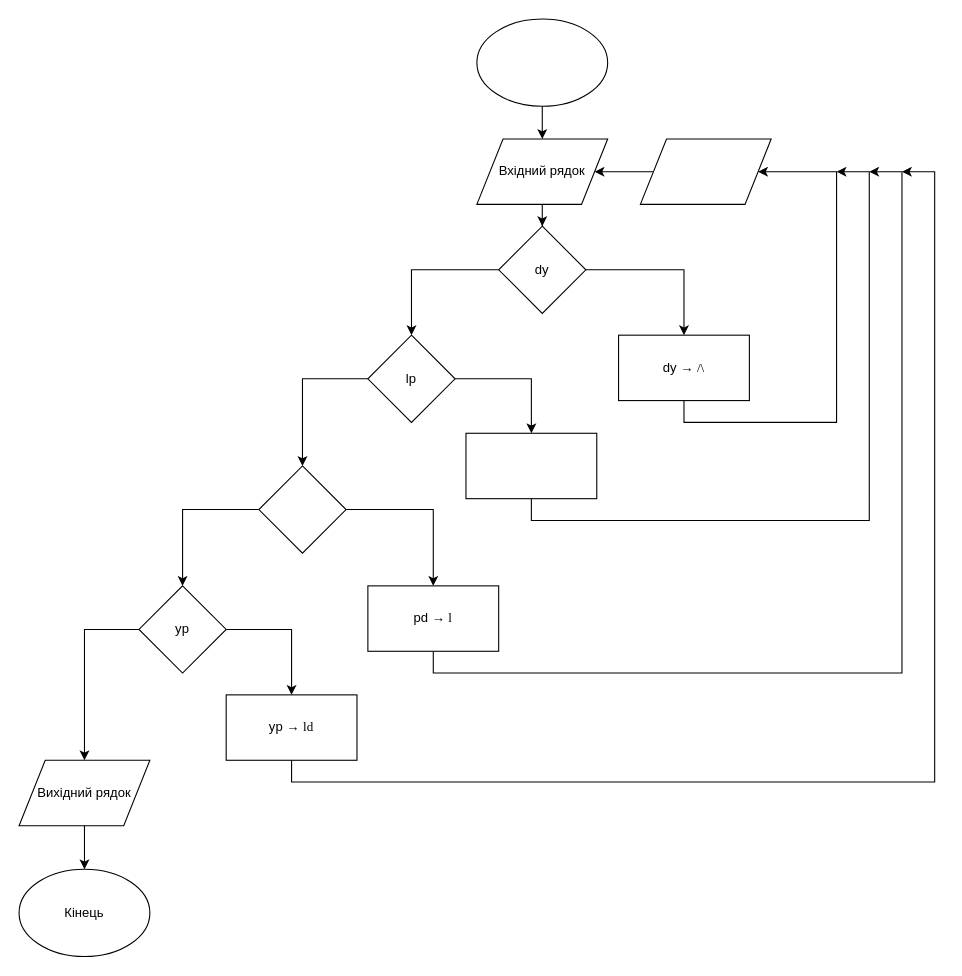
This 962x976 diagram has some shape labels left out. Here are the shapes that lost their labels. From the top down, the centre of each, then its label:
At (x=542, y=62): "Початок".
At (x=705, y=171): "Вихідний проміжний рядок".
At (x=531, y=465): "lp → y".
At (x=302, y=509): "pd".
